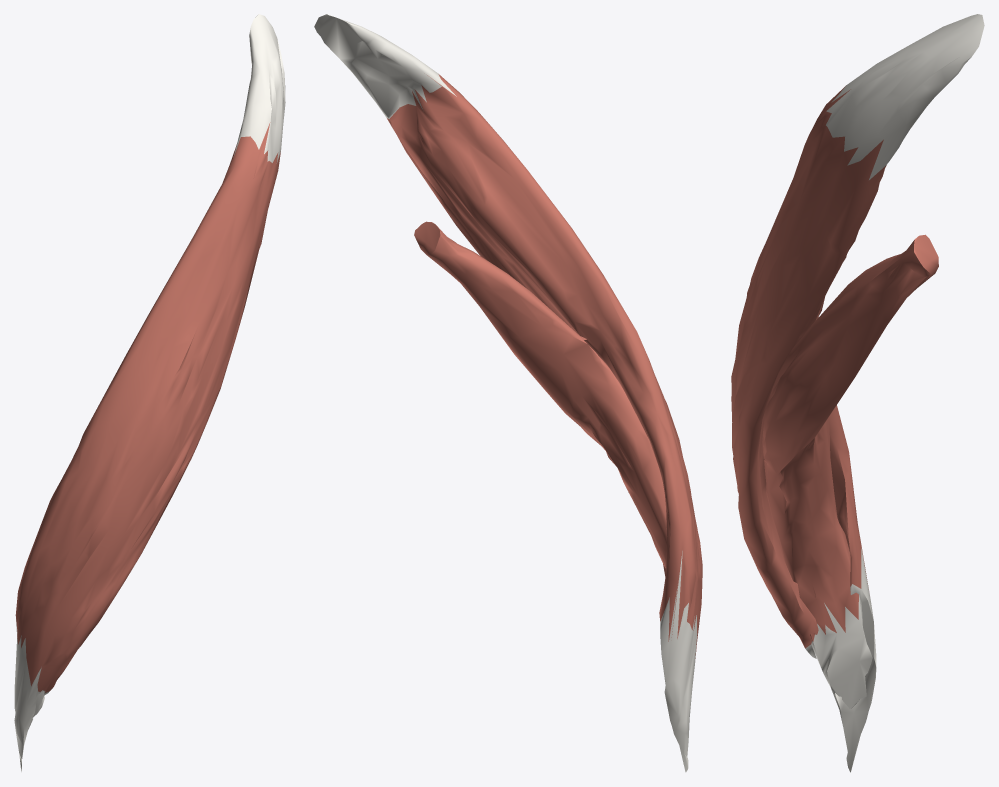
The model's file is rond-pronateur.glb.
3 views of the same model, side by side, from view 1: azimuth 30°, elevation 25°; view 2: azimuth 150°, elevation 25°; view 3: azimuth 270°, elevation 25° (orthographic). The views are drawn at different scales.
Parts seen in each view (by area): view 1: rond-pronateur; view 2: rond-pronateur; view 3: rond-pronateur.
Boxes of the visible parts, x1,y1,x2,y2 form: rond-pronateur: (14,14,285,771); rond-pronateur: (314,14,702,772); rond-pronateur: (731,14,984,772).
Size of the model in its own units: 0.0722 by 0.1506 by 0.036.
